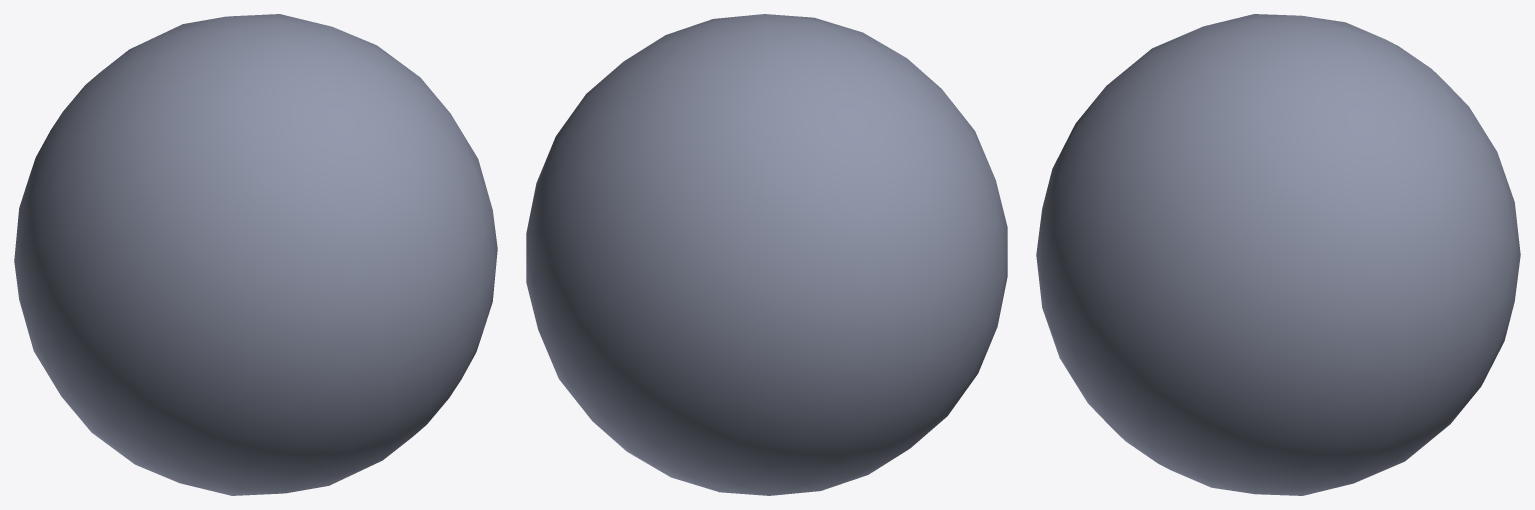
The picture shows the model from 3 angles, left to right: view 1: azimuth 30°, elevation 25°; view 2: azimuth 150°, elevation 25°; view 3: azimuth 270°, elevation 25°; orthographic projection.
Parts seen in each view (by area): view 1: GeoSphere565; view 2: GeoSphere565; view 3: GeoSphere565.
Boxes of the visible parts, left/top/right/bottom form: GeoSphere565: left=14, top=14, right=497, bottom=495; GeoSphere565: left=526, top=14, right=1007, bottom=495; GeoSphere565: left=1036, top=14, right=1520, bottom=495.
Bounding box in the file's own units: 39.81 × 39.76 × 40.
1 material, 1 textured.
